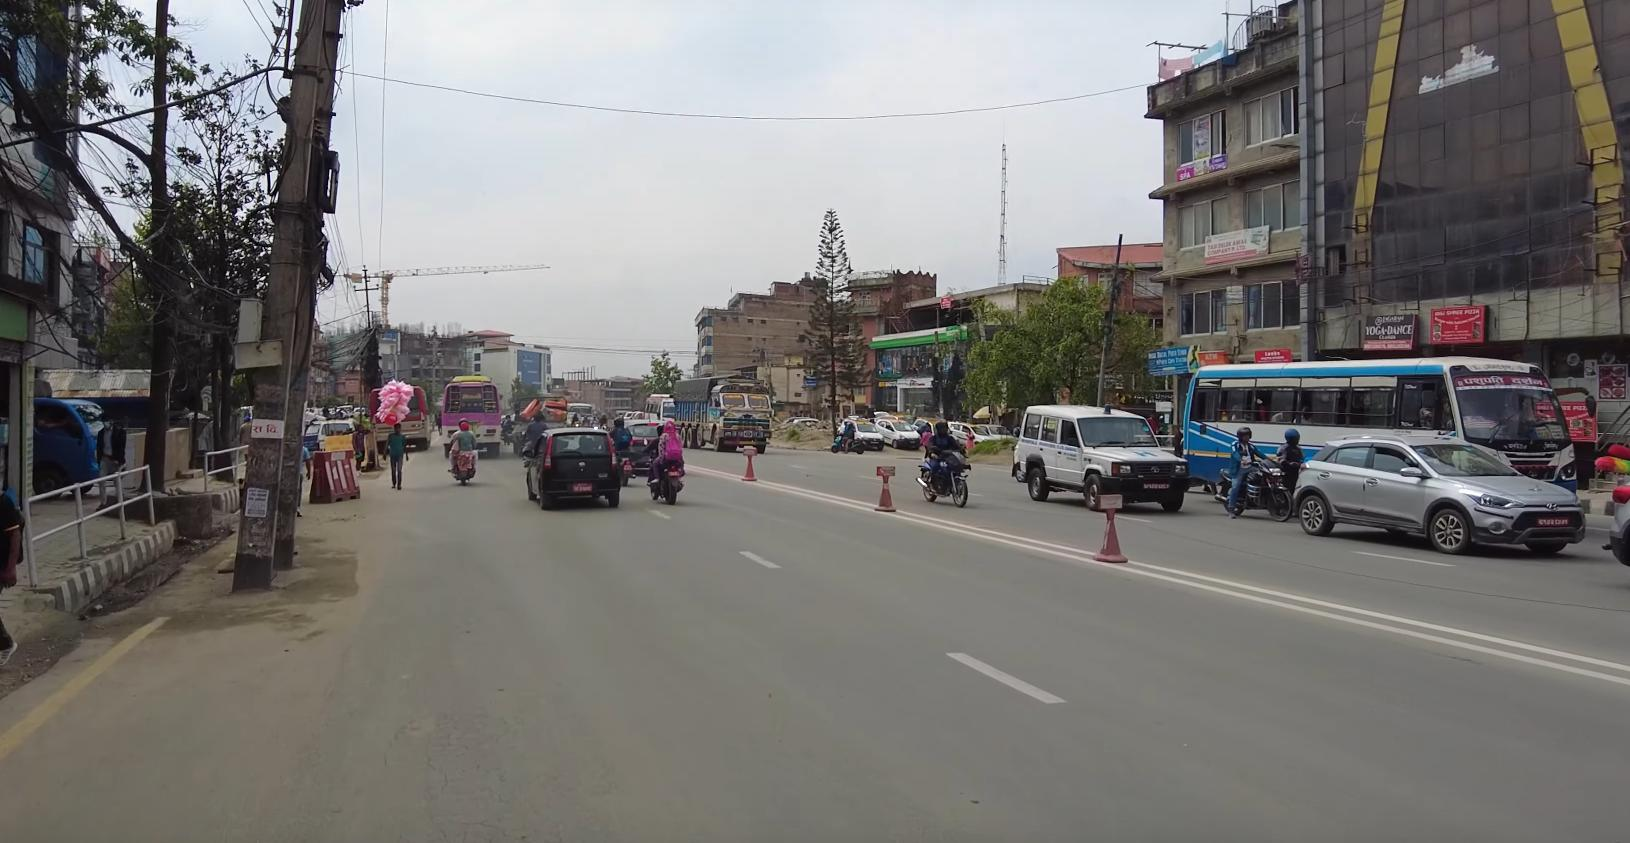ambulance: (1014, 399, 1199, 523)
bike: (913, 440, 973, 513)
bus: (1174, 347, 1584, 512), (439, 374, 509, 460)
car: (1291, 435, 1590, 565), (518, 427, 621, 513)
truck: (670, 370, 774, 453)
